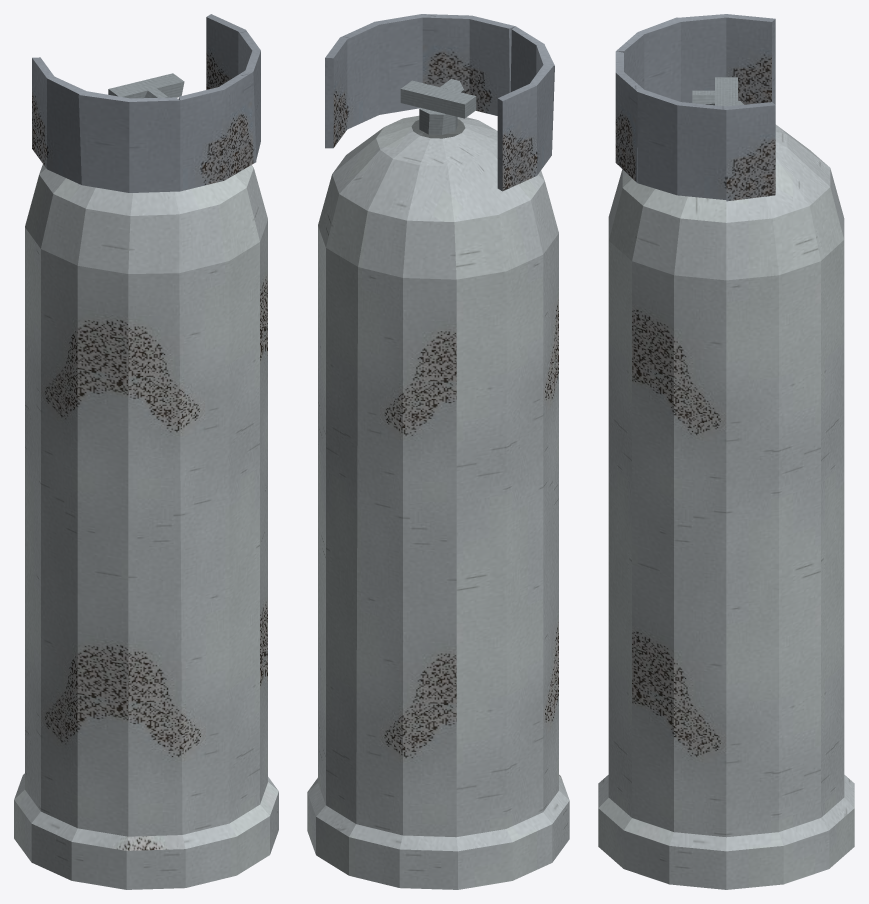
File: propane_v4.glb
The picture shows the model from 3 angles, left to right: view 1: azimuth 30°, elevation 25°; view 2: azimuth 150°, elevation 25°; view 3: azimuth 270°, elevation 25°; orthographic projection.
Parts seen in each view (by area): view 1: Variant_propane_4; view 2: Variant_propane_4; view 3: Variant_propane_4.
Part boxes in pixels (x1=…): Variant_propane_4: x1=14, y1=14, x2=278, y2=889; Variant_propane_4: x1=307, y1=14, x2=569, y2=889; Variant_propane_4: x1=598, y1=14, x2=854, y2=889.
Bounding box in the file's own units: 0.37 × 1.2 × 0.3607.
Materials: 3 (3 with a texture image).
